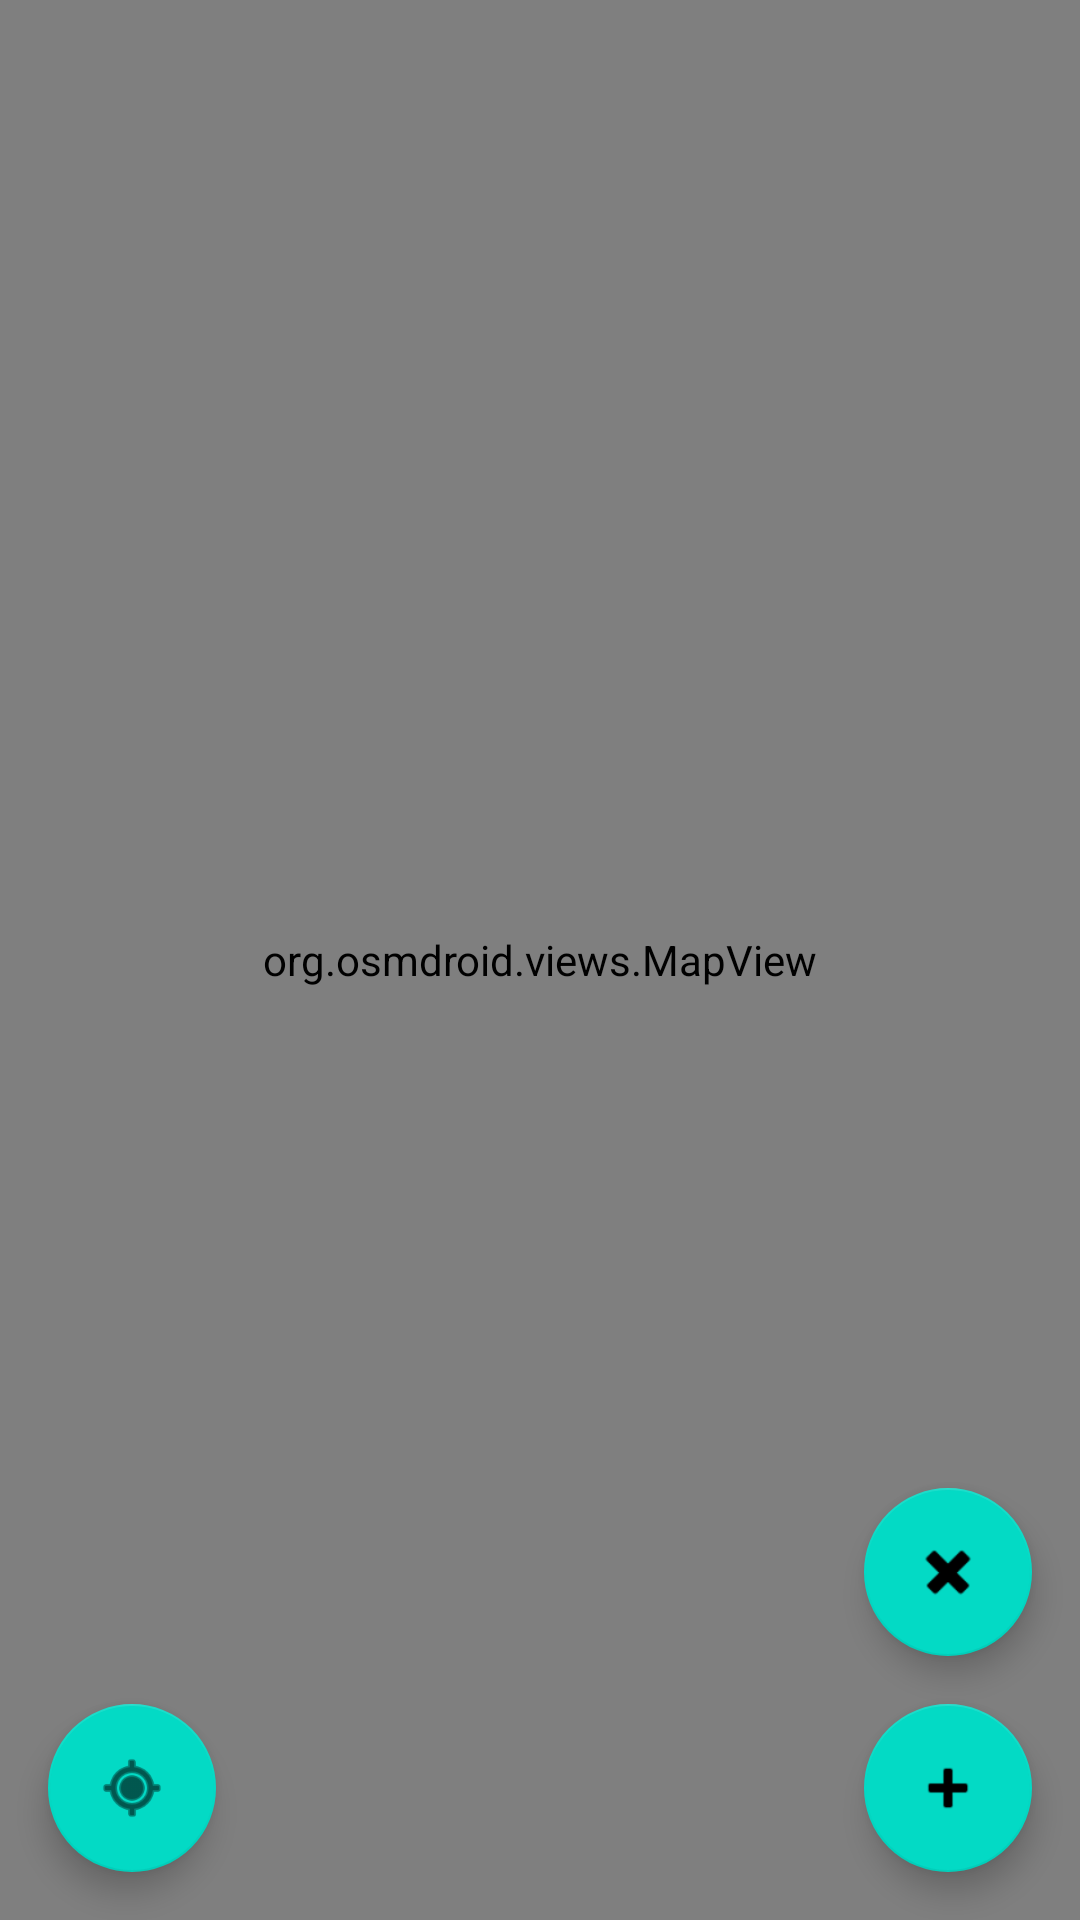

Where icons sit on this 1080w x 1920h app screen, as (left=x1, top=y1, right=x2, bottom=y2):
My Location: (left=48, top=1704, right=216, bottom=1872)
Zoom In: (left=864, top=1704, right=1032, bottom=1872)
